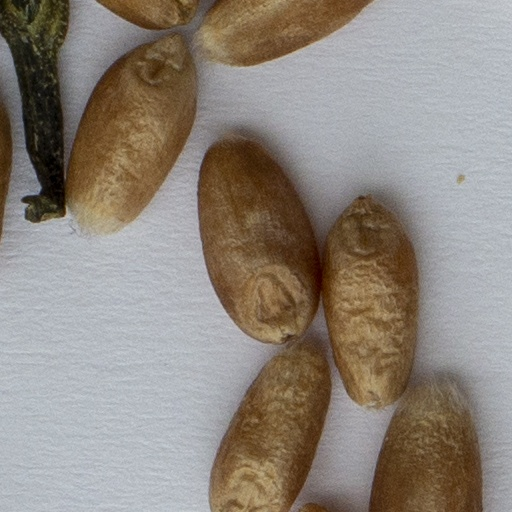Peel-poly: (0, 0, 68, 218)
